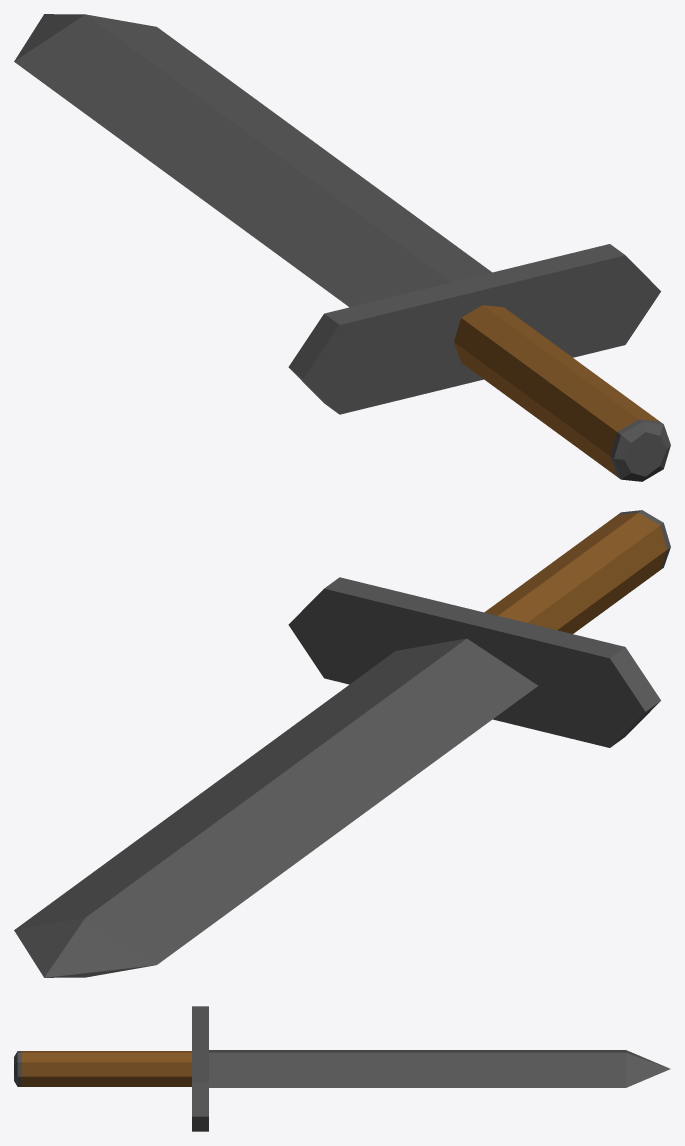
The model's file is sword.fbx.
3 views of the same model, one above another, from view 1: azimuth 30°, elevation 25°; view 2: azimuth 150°, elevation 25°; view 3: azimuth 270°, elevation 25° (orthographic). The views are drawn at different scales.
Visible parts, largest first — view 1: sword; view 2: sword; view 3: sword.
Boxes of the visible parts, x1,y1,x2,y2 form: sword: (14,14,670,481); sword: (14,510,670,977); sword: (14,1006,670,1131).
Size of the model in its own units: 500 by 120 by 1458.
